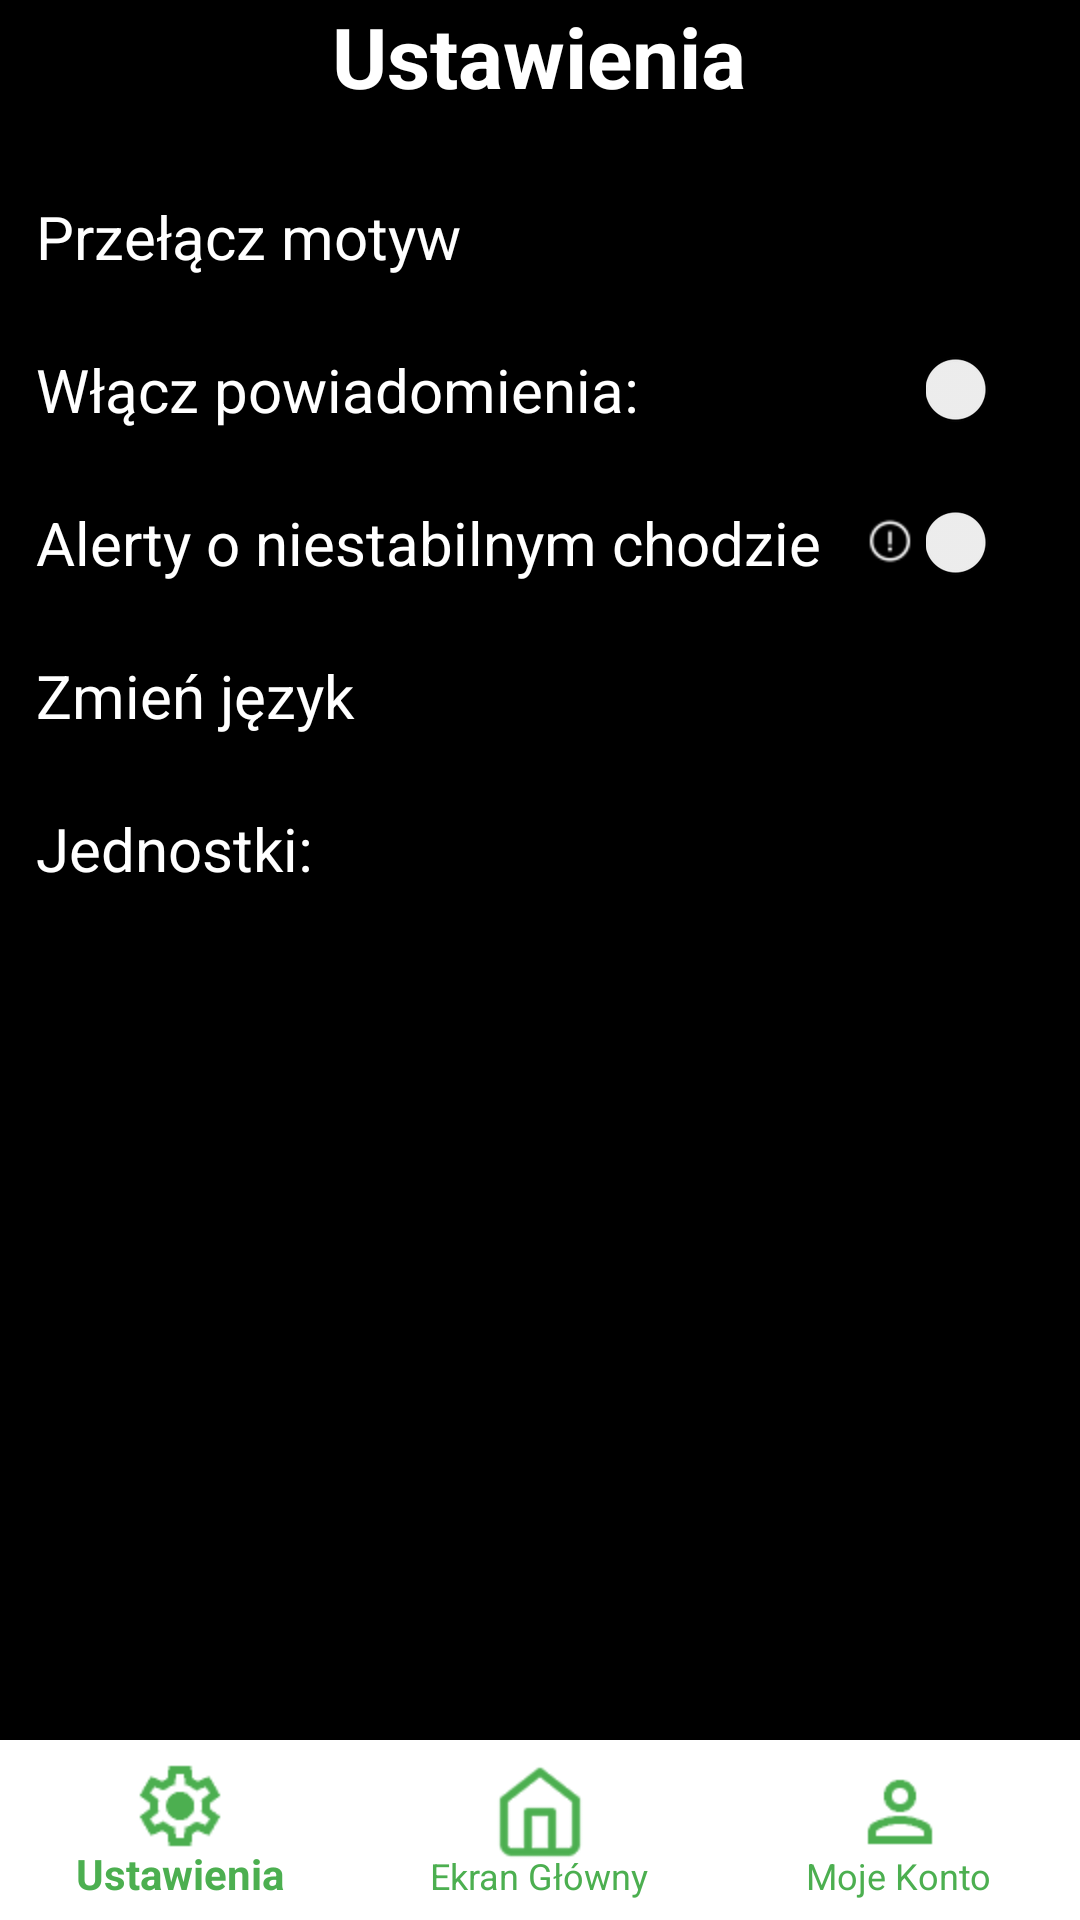

Named icons in this screenshot (1080px×1920px) and their centers, point (x, y):
mark: point (890, 541)
